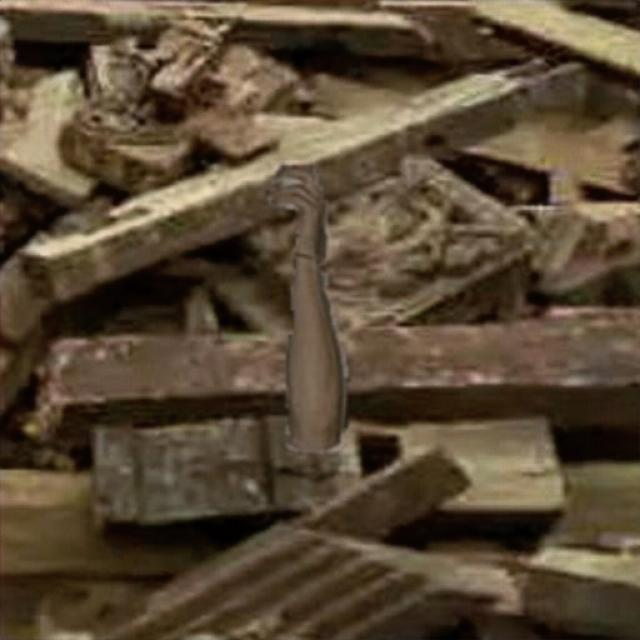Person in Rubble: (266, 165, 349, 451)
